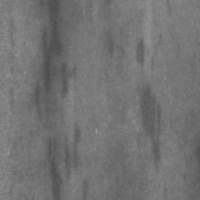inclusion: (37, 6, 84, 200), (134, 77, 168, 182), (129, 32, 151, 74)
